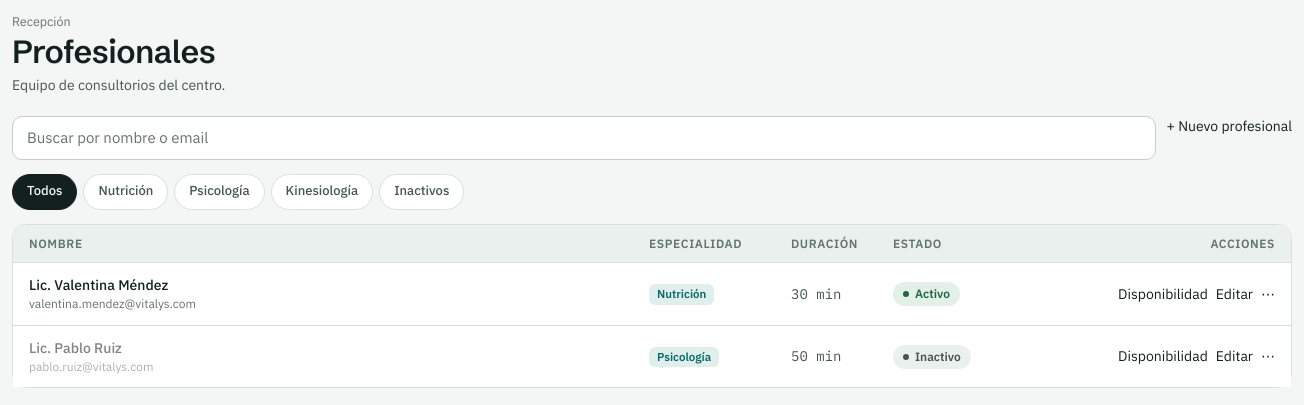
Test: ProfesionalesPage › lista los profesionales y filtra por especialidad, inactivos y texto
Expected: the text "Lic. Valentina Méndez" is shown, [29,276,168,294]
Expected: the text "Lic. Pablo Ruiz" is shown, [29,339,122,357]
Click the button "Psicología" at (219, 192), box [174,174,265,210]
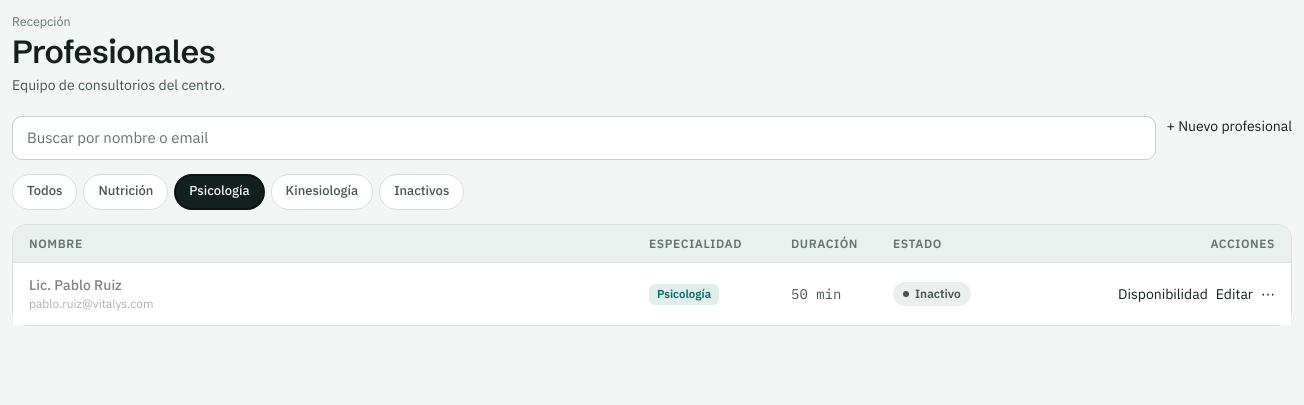
Expected: the text "Lic. Pablo Ruiz" is shown, [29,276,122,294]
Result: the text "Lic. Valentina Méndez" is gone
Click the button "Inactivos" at (422, 192), box [379,174,464,210]
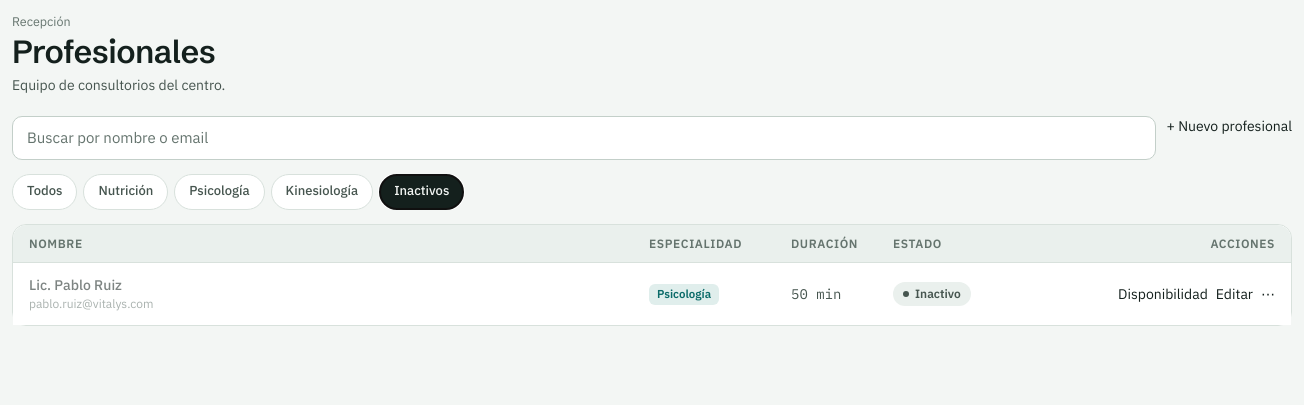
Expected: the text "Lic. Pablo Ruiz" is shown, [29,276,122,294]
Click the button "Todos" at (45, 192), box [12,174,77,210]
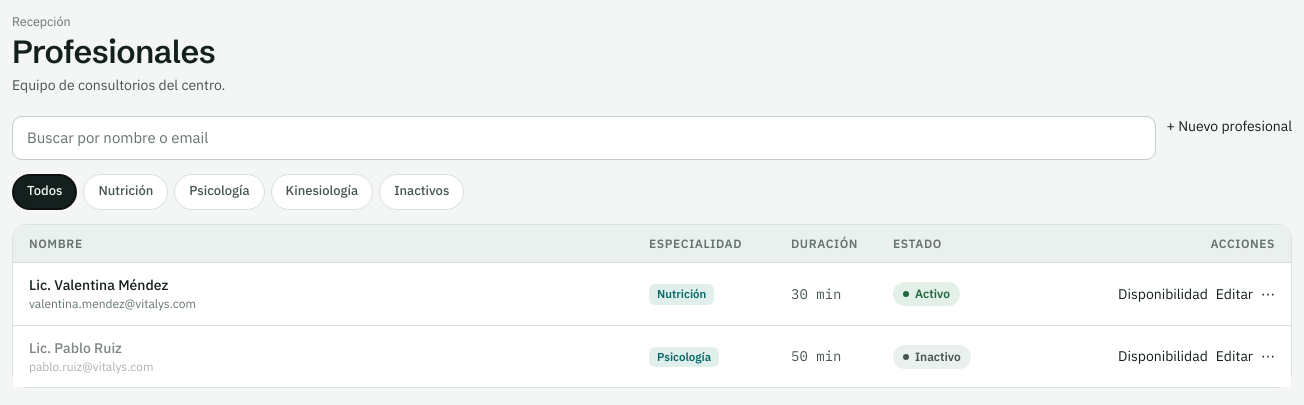
Type "VALENTINA.mendez" into the field labelled "Buscar por nombre o email" at (584, 138), box [12,116,1156,160]
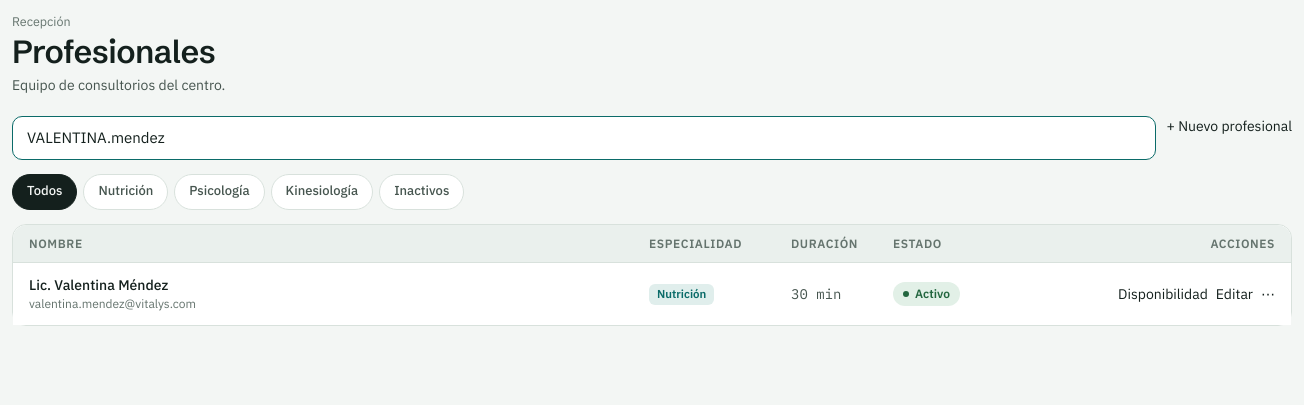
Result: the text "Lic. Valentina Méndez" is shown at [29,276,168,294]
Result: the text "Lic. Pablo Ruiz" is gone
Replace the text in the field named "Buscar por nombre o email" with "zzz" at (584, 138), box [12,116,1156,160]
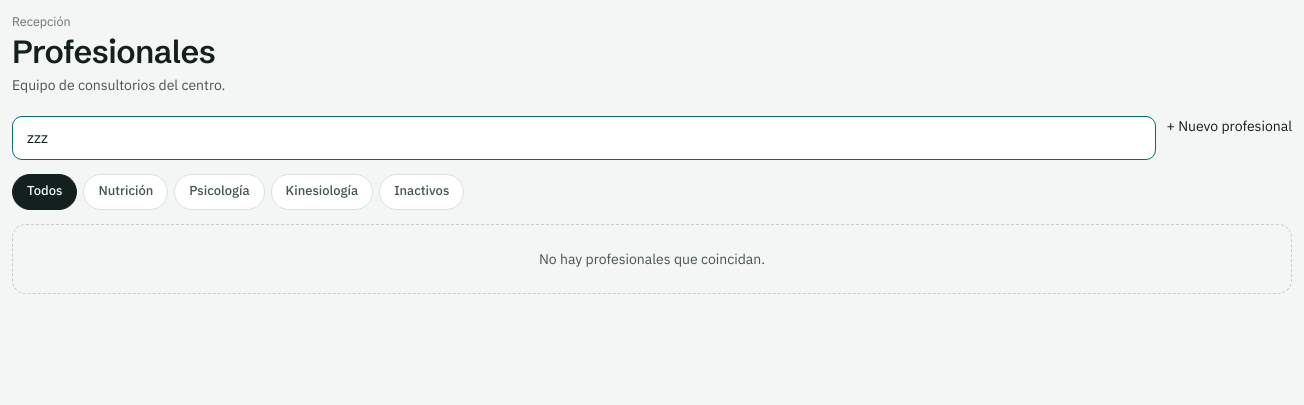
Result: the text "No hay profesionales que coincidan." is shown at [12,224,1292,294]
